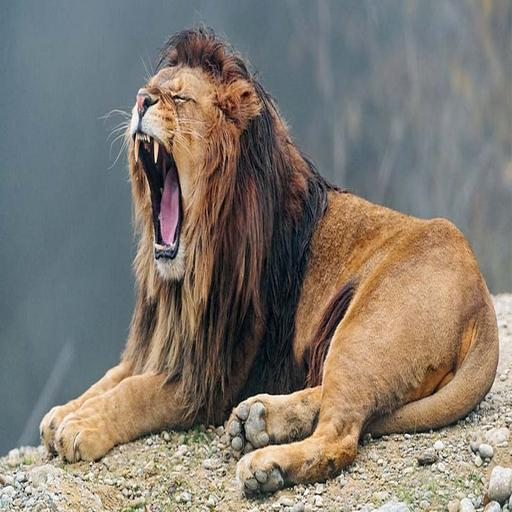Lion: (37, 15, 506, 502)
